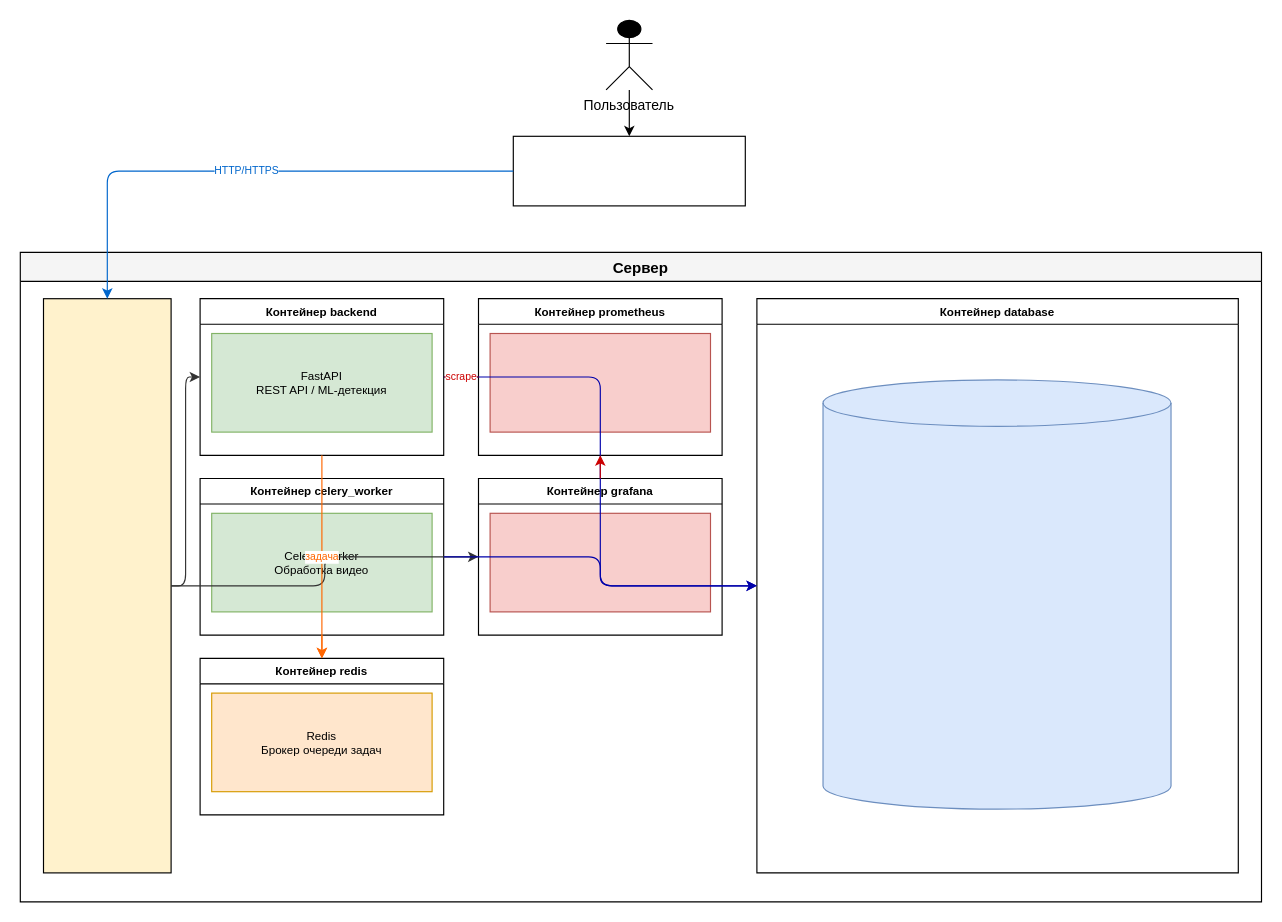
The diagram is 1282 pixels wide and 922 high, and some of its shapes have lost their labels. The centre of each missing label's shape, as x and y in pixels:
"Grafana Визуализация метрик" belongs at (x=599, y=562).
"PostgreSQL" belongs at (x=996, y=594).
"Prometheus Сбор метрик" belongs at (x=599, y=382).
"Web-Сервер Nginx" belongs at (x=106, y=585).
"Браузер React SPA" belongs at (x=628, y=170).
